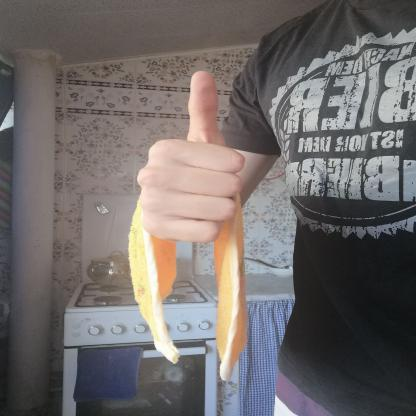ALIF: (127, 57, 258, 252)
